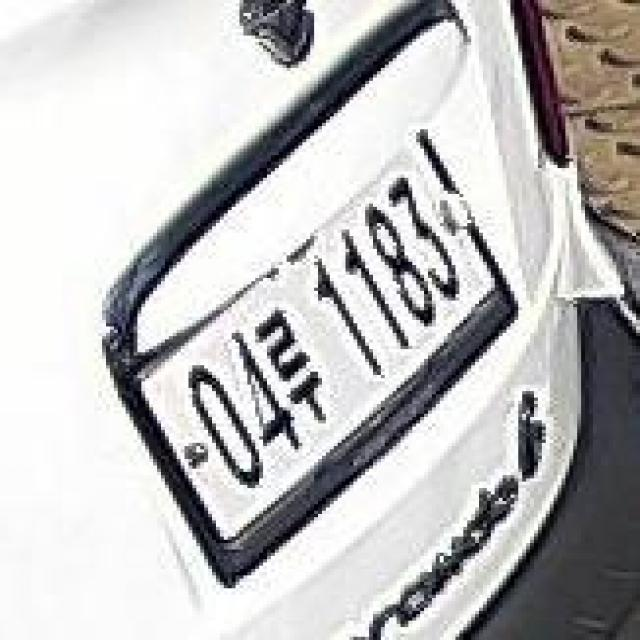illegal_plate: (112, 126, 504, 582)
